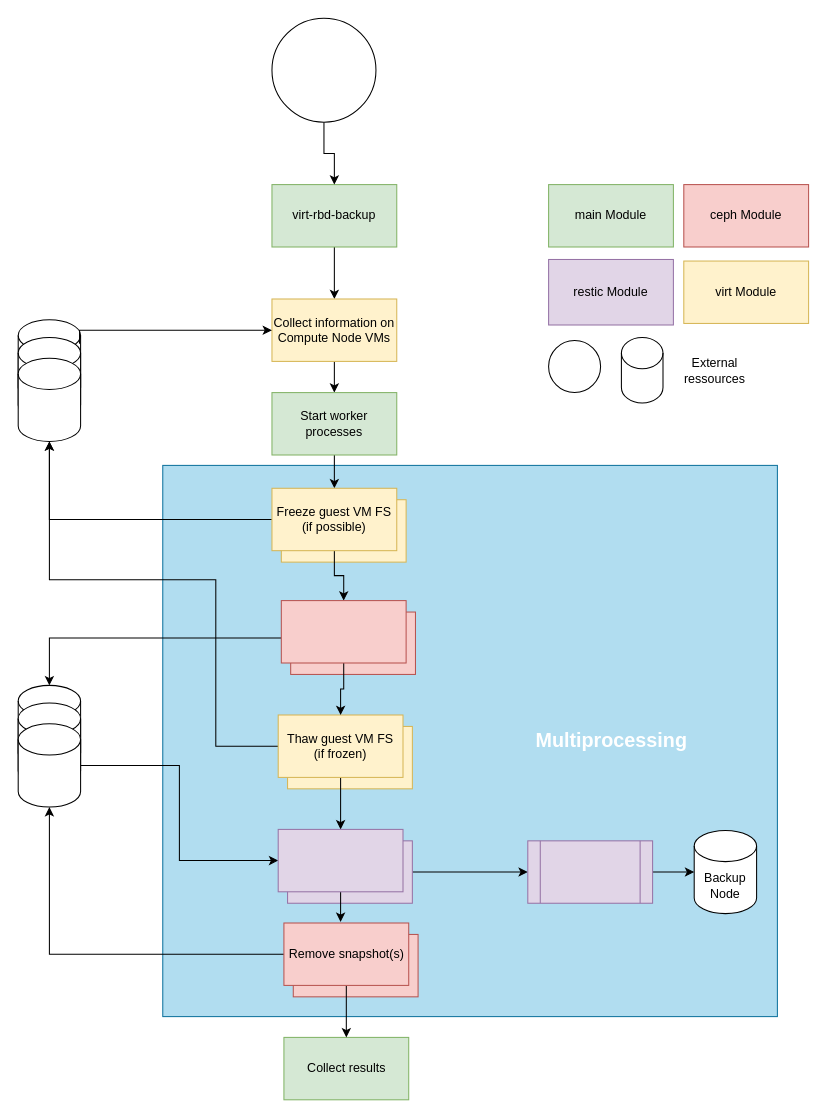
This 827x1118 diagram has some shape labels left out. Here are the shapes that lost their labels. From the top down, the centre of each, then its label:
At point (323, 69): "Trigger (systemd timer, cron)".
At point (49, 399): "Compute Nodes".
At point (343, 631): "Snapshot image(s)".
At point (49, 765): "Ceph Cluster".
At point (340, 860): "Copy to managed backup process".
At point (590, 871): "restic".
